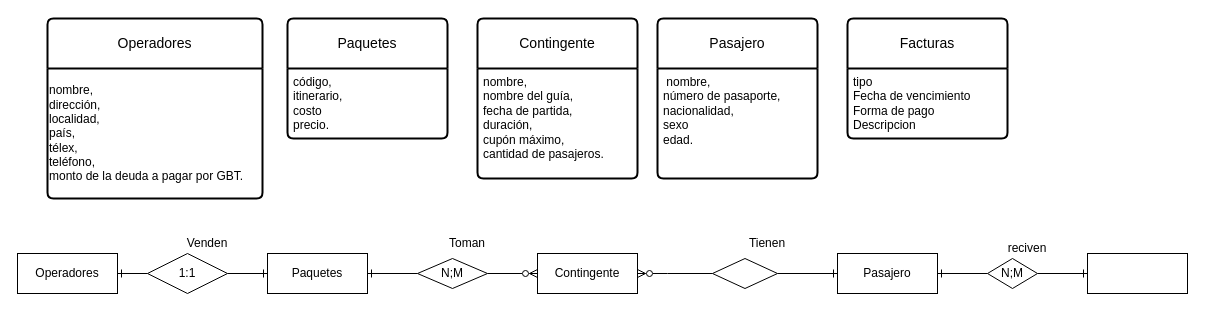
This 1205x311 diagram has some shape labels left out. The centre of each missing label's shape, as x and y in pixels:
"1:N" belongs at [745,273].
"Factura" belongs at [1137,273].
